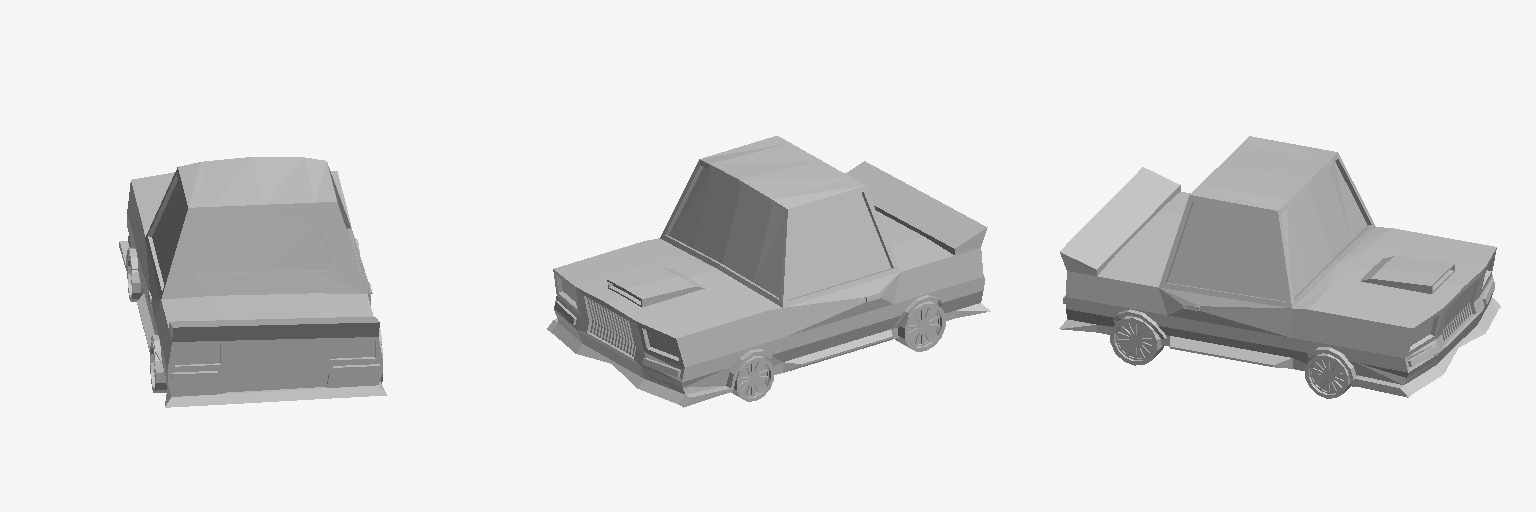
The model's file is car.obj.
3 renders of one model, left to right at view 1: azimuth 30°, elevation 25°; view 2: azimuth 150°, elevation 25°; view 3: azimuth 270°, elevation 25°, orthographic.
Visible parts, largest first — view 1: body, backlight, wheel.1; view 2: body, wheel.1, lattice.1, wheel1.1, headlight; view 3: body, wheel.1, wheel1.1, lattice.1.
Boxes of the visible parts, x1,y1,x2,y2 form: body: [119, 157, 386, 407]; backlight: [175, 340, 374, 364]; wheel.1: [150, 341, 382, 392]; body: [547, 136, 990, 407]; wheel.1: [895, 301, 945, 351]; lattice.1: [587, 298, 635, 356]; wheel1.1: [731, 356, 773, 401]; headlight: [561, 279, 677, 356]; body: [1059, 136, 1500, 397]; wheel.1: [1110, 316, 1163, 365]; wheel1.1: [1305, 353, 1351, 398]; lattice.1: [1442, 282, 1474, 341].
Bounding box in the file's own units: 216 × 111 × 264.